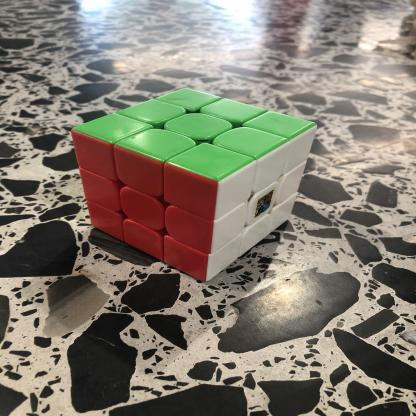SolvedCube: (65, 74, 329, 284)
